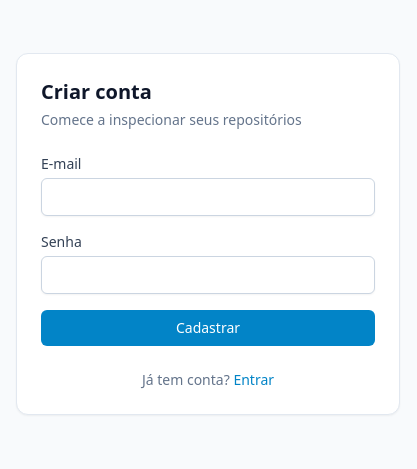
Test case: RegisterPage › shows a validation message on 422
In the field labelled "E-mail": coordinates (208, 197) [41,178,375,216], type "bad"
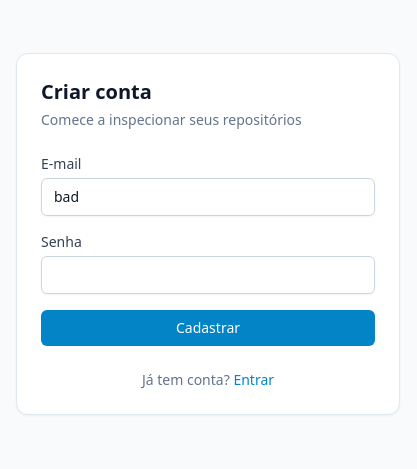
In the password field labelled "Senha": coordinates (208, 275) [41,256,375,294], type "short"
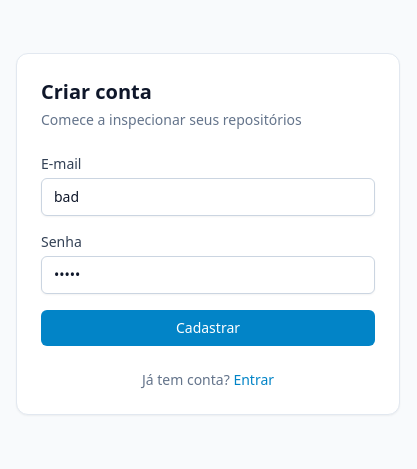
Submit the form "E-mail Senha Cadastrar", box [41,154,375,346]
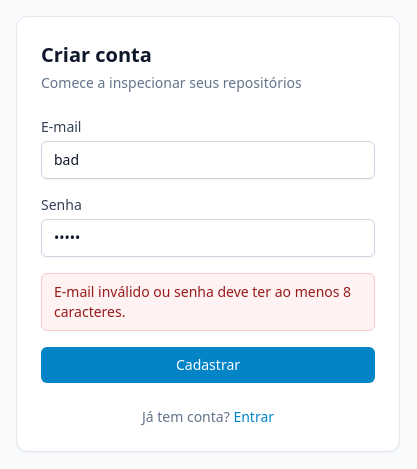
Result: the message reads "E-mail inválido ou senha deve ter ao menos 8 caracteres." at [54,282,351,321]
